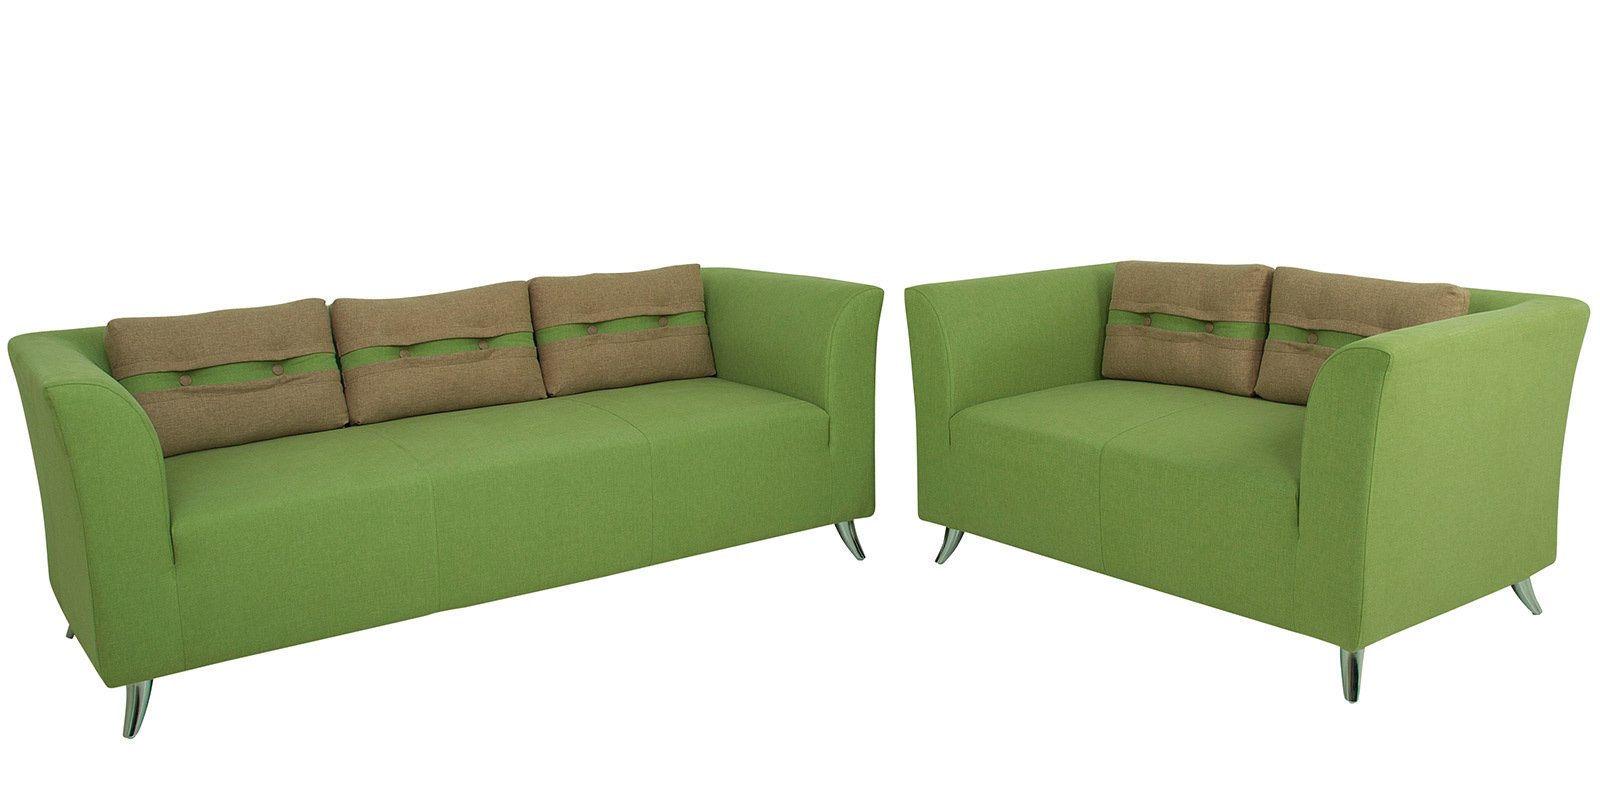Iowa Three Seater Sofa in Pear Green Colour by Furnitech: (14, 256, 887, 734), (902, 234, 1576, 721)
